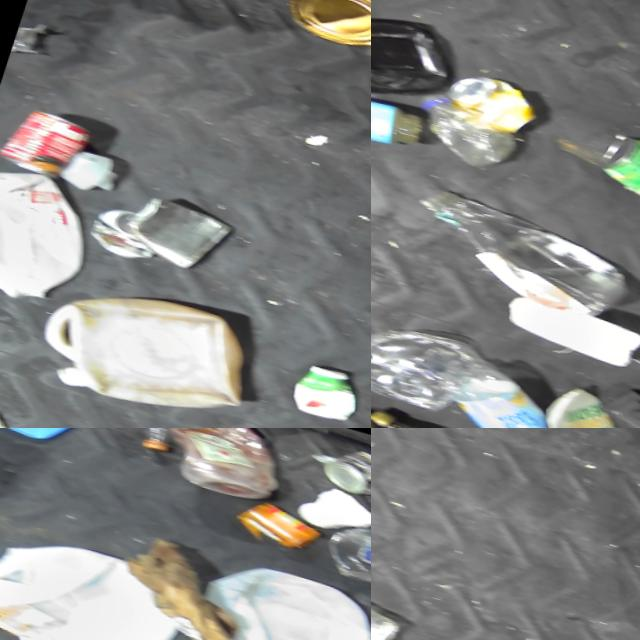can: (125, 188, 242, 274), (0, 100, 98, 182), (88, 199, 173, 263), (278, 0, 371, 53), (314, 435, 371, 503), (600, 127, 640, 208)
milk_jug: (33, 269, 277, 428), (0, 521, 198, 640), (177, 546, 371, 640), (0, 155, 112, 311)
non_white_jug: (168, 428, 303, 503)
plastic_bottle: (403, 179, 640, 324), (435, 351, 604, 428), (117, 428, 196, 451)
